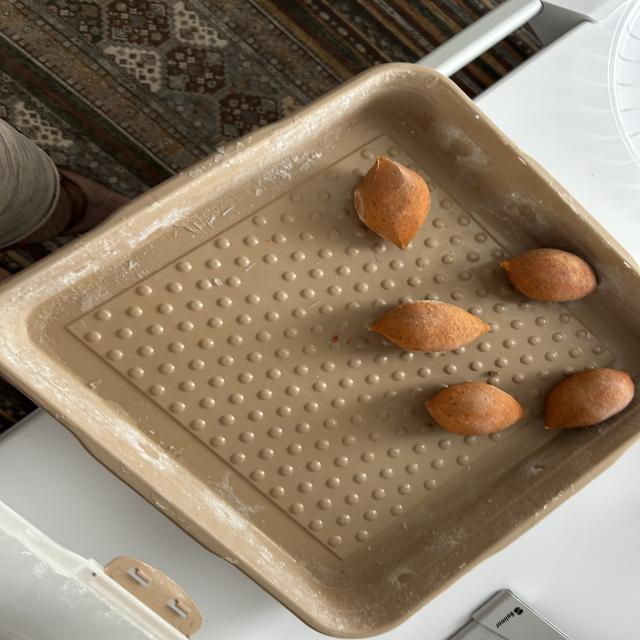kobi: (364, 298, 502, 355), (354, 154, 429, 256), (540, 370, 640, 432), (416, 384, 529, 436), (500, 248, 606, 299)
